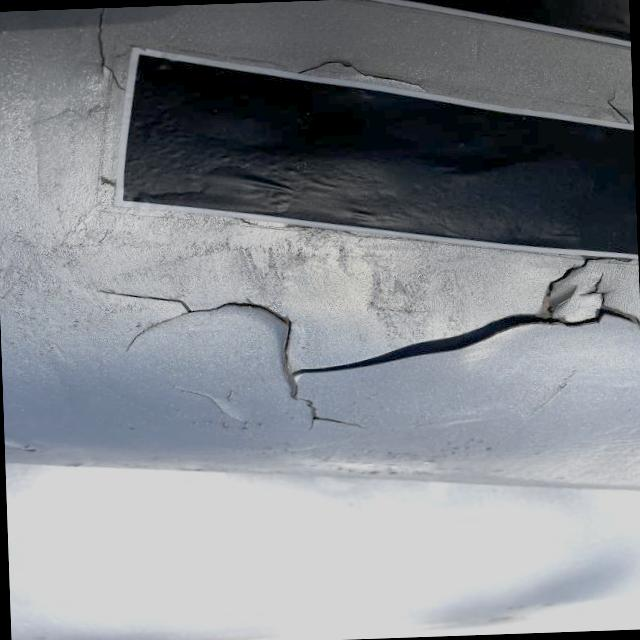crack: (276, 300, 640, 424), (84, 281, 295, 359), (176, 381, 262, 432)
